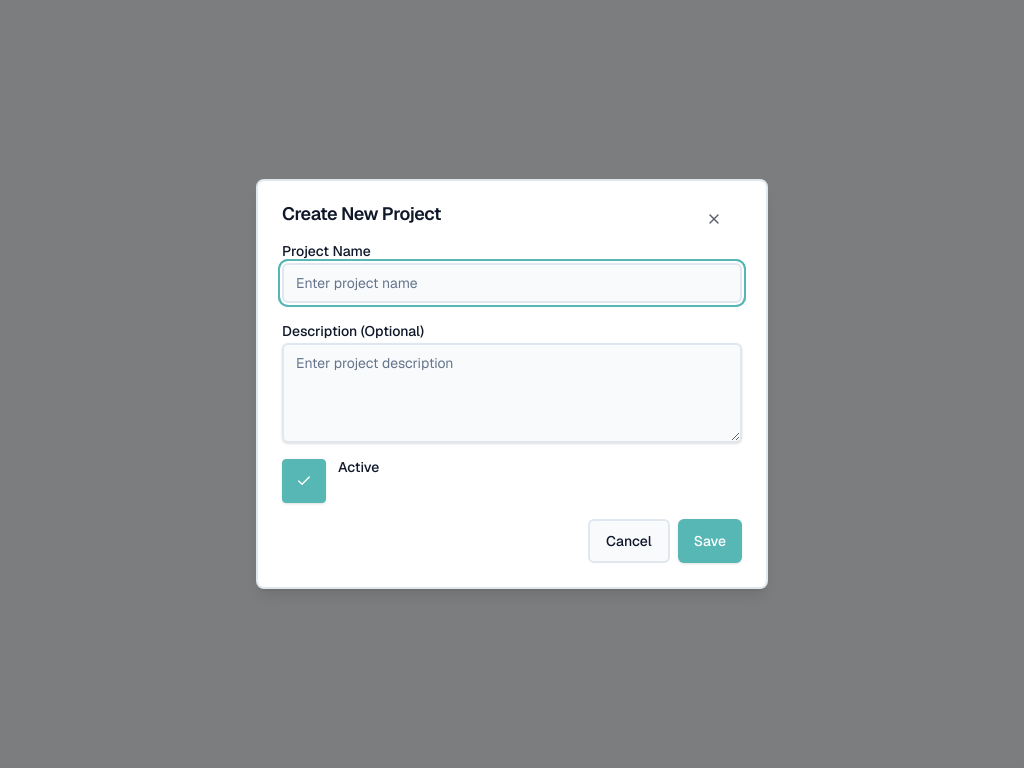
Test: ProjectFormDialog › should display validation error for empty name
Click the button "Save".
click(710, 541)  # box [678,519,742,563]
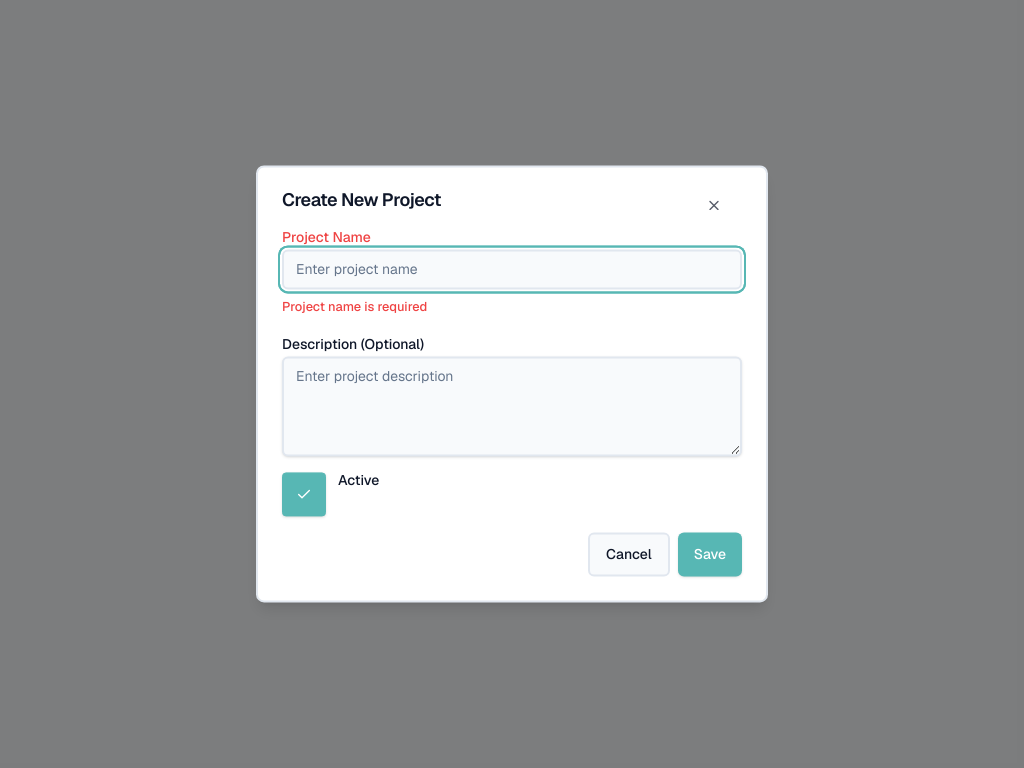
Now the text "Project name is required" is shown, box [282,298,427,315]
